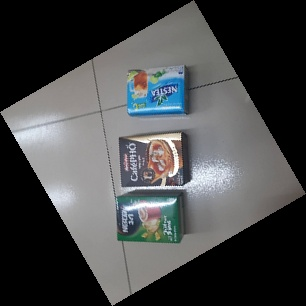CF pho: (118, 132, 189, 187)
Nes Rang: (113, 193, 188, 246)
Nestea: (124, 65, 190, 118)
